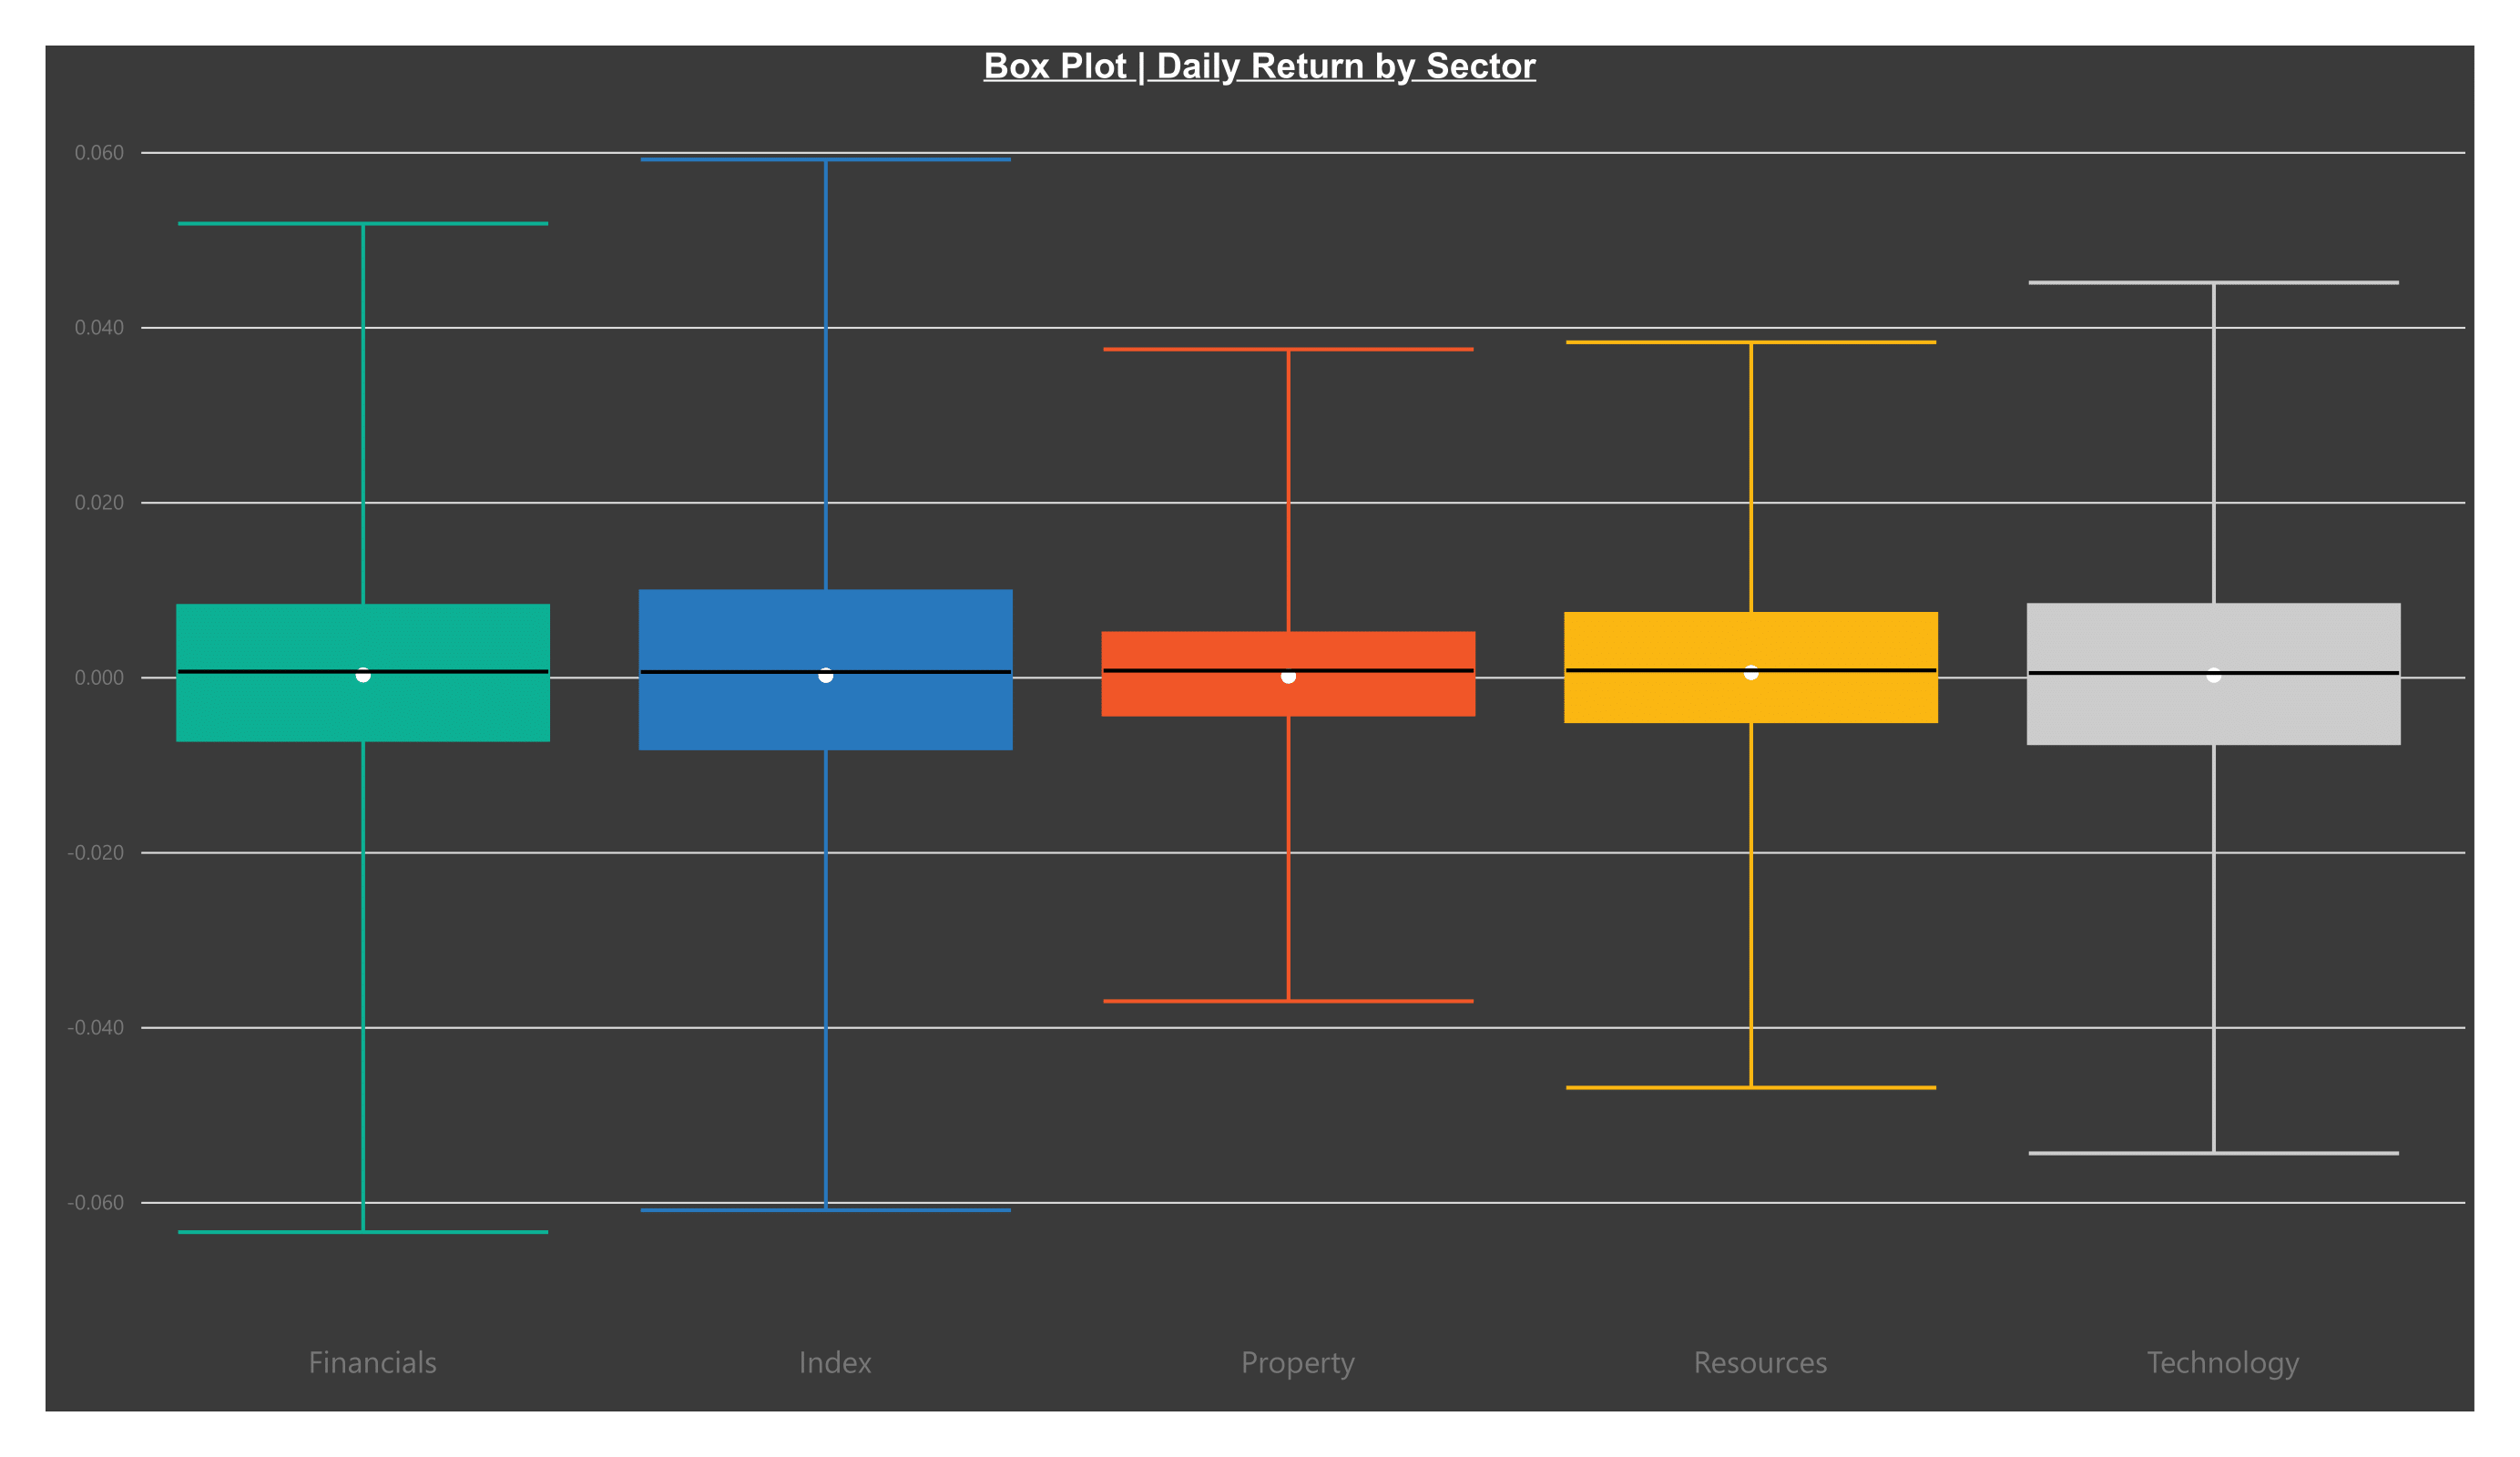

The page's visual inventory and layout, read from the dashboard file:
{"tool":"powerbi","page":{"name":"Box & Whisker Plot — Daily Return by Sector","canvas":[1280,720],"ordinal":7},"visuals":[{"type":"BoxWhiskerChart1455240051538","title":"Box Plot | Daily Return by Sector","fields":{"Values":["Avg(Daily Data.Daily_Return)"],"Groups":["Daily Data.Sector"],"Samples":["DateTable.Date.Variation.Date Hierarchy.Year"]},"box":[0,0,1279.8,720.2],"z":0}]}

Visuals, with their boxes on the page's 1280x720 design canvas (x1, y1, x2, y2). These are canvas units, not pixel positions in the 2520x1457 screenshot, which may show the page scaled, cropped or inside an application window:
"Box Plot | Daily Return by Sector" BoxWhiskerChart1455240051538: {"x1": 0, "y1": 0, "x2": 1280, "y2": 720}
